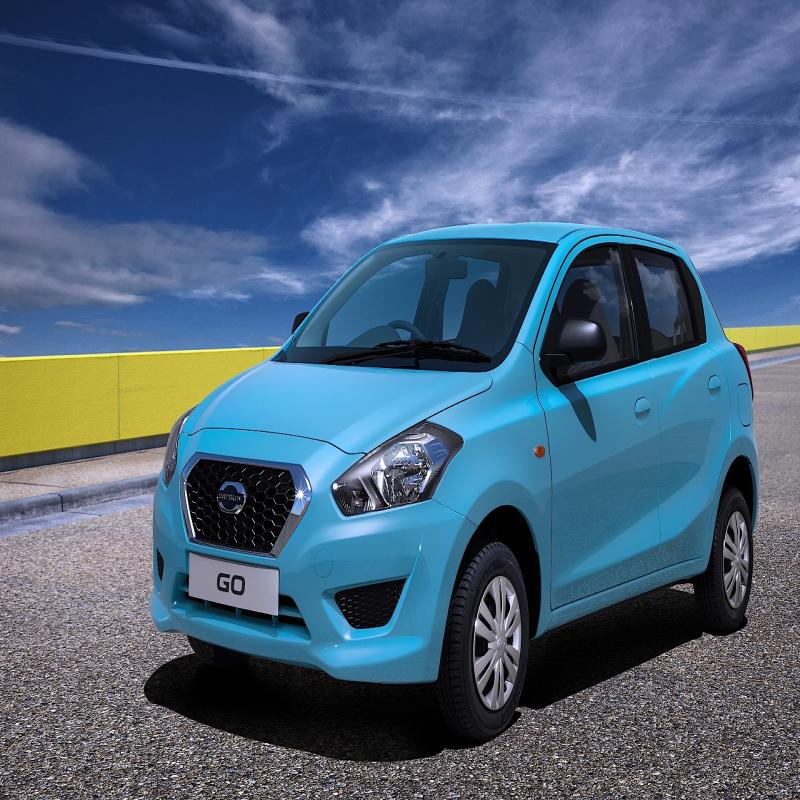car: (145, 220, 765, 702)
